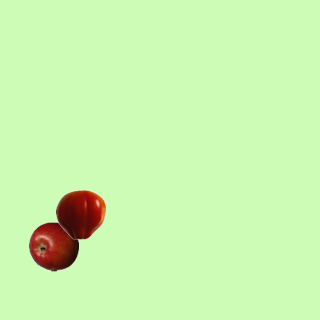Apple Braeburn: (28, 221, 78, 271)
Tomato 1: (55, 189, 105, 239)
